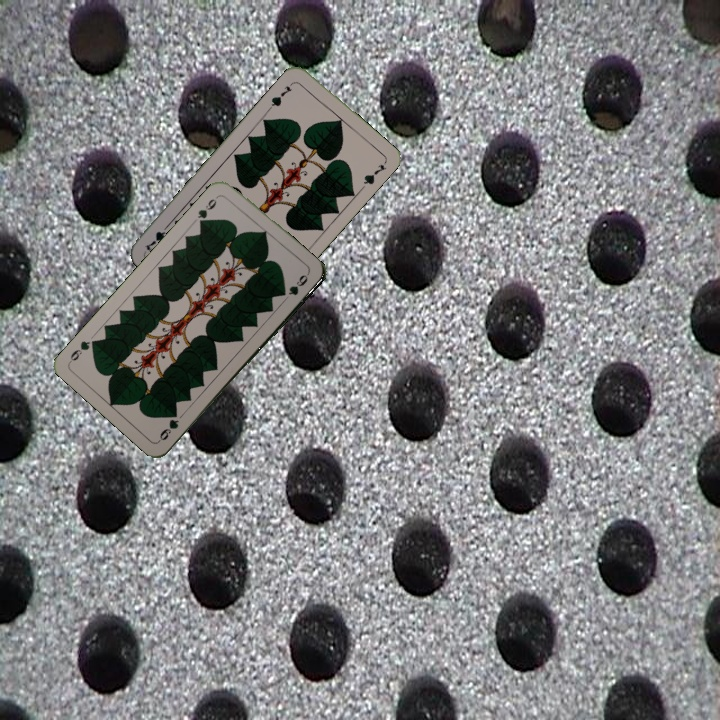G7: (266, 78, 298, 111)
G9: (193, 191, 223, 227), (155, 415, 181, 444)
